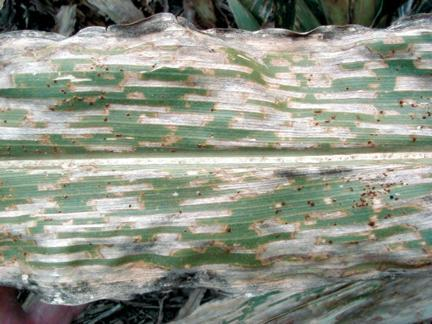Corn Gray leaf spot: (1, 19, 431, 306)
